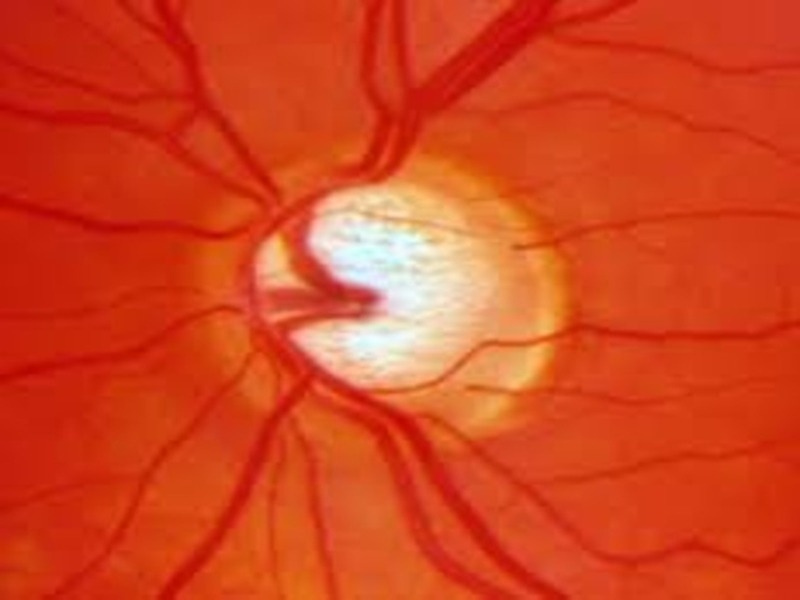Optic Cup: (309, 189, 473, 383)
Optic Disc: (203, 145, 578, 427)
